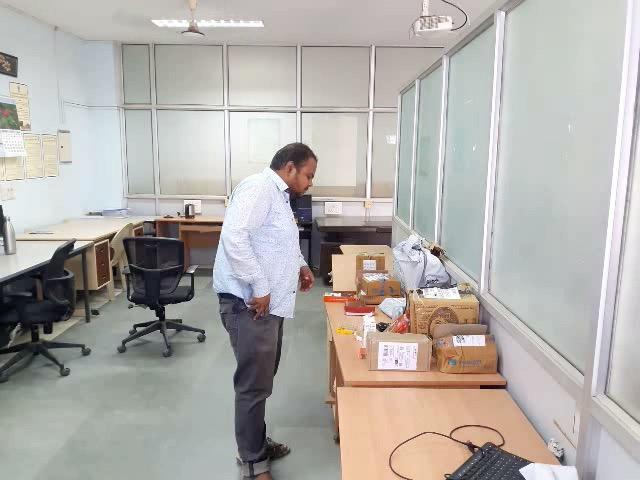shoplifting: (163, 222, 348, 388)
